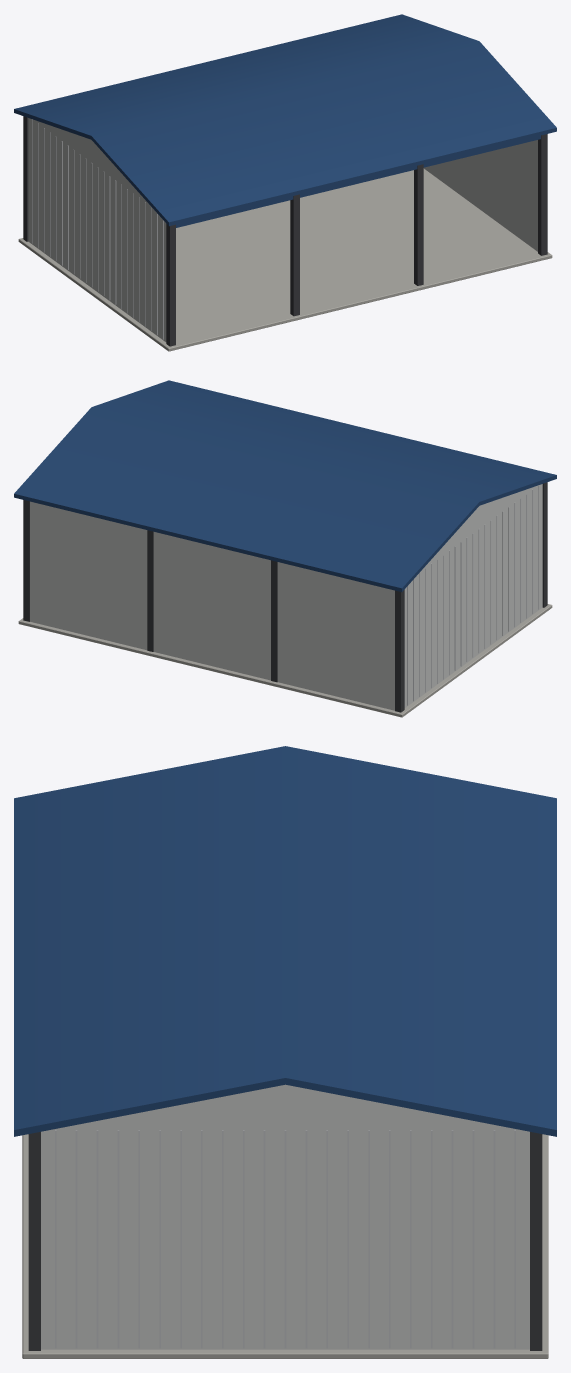
The model's file is workshop.glb.
3 renders of one model, top to bottom at view 1: azimuth 30°, elevation 25°; view 2: azimuth 150°, elevation 25°; view 3: azimuth 270°, elevation 25°, orthographic. The views are drawn at different scales.
Parts seen in each view (by area): view 1: Body_LOD0; view 2: Body_LOD0; view 3: Body_LOD0.
Boxes of the visible parts, x1,y1,x2,y2 form: Body_LOD0: [14, 14, 556, 351]; Body_LOD0: [14, 380, 556, 717]; Body_LOD0: [14, 746, 556, 1358].
Size of the model in its own units: 18.8 by 7.48 by 13.
